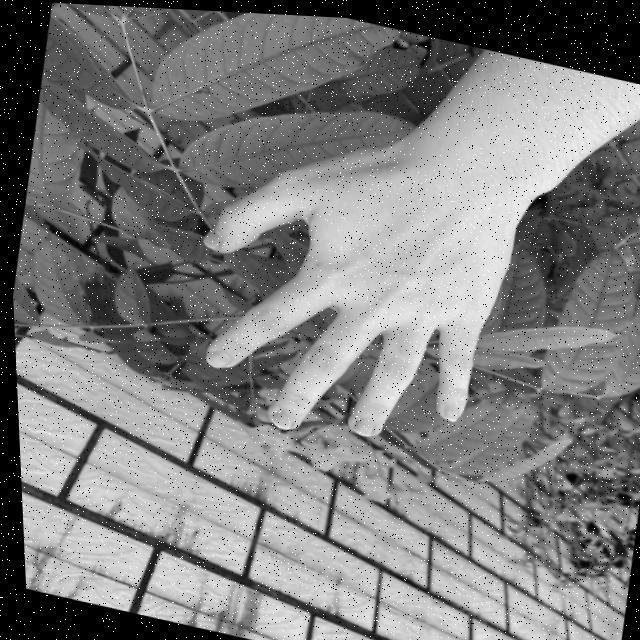no-gloves: (165, 118, 531, 476)
